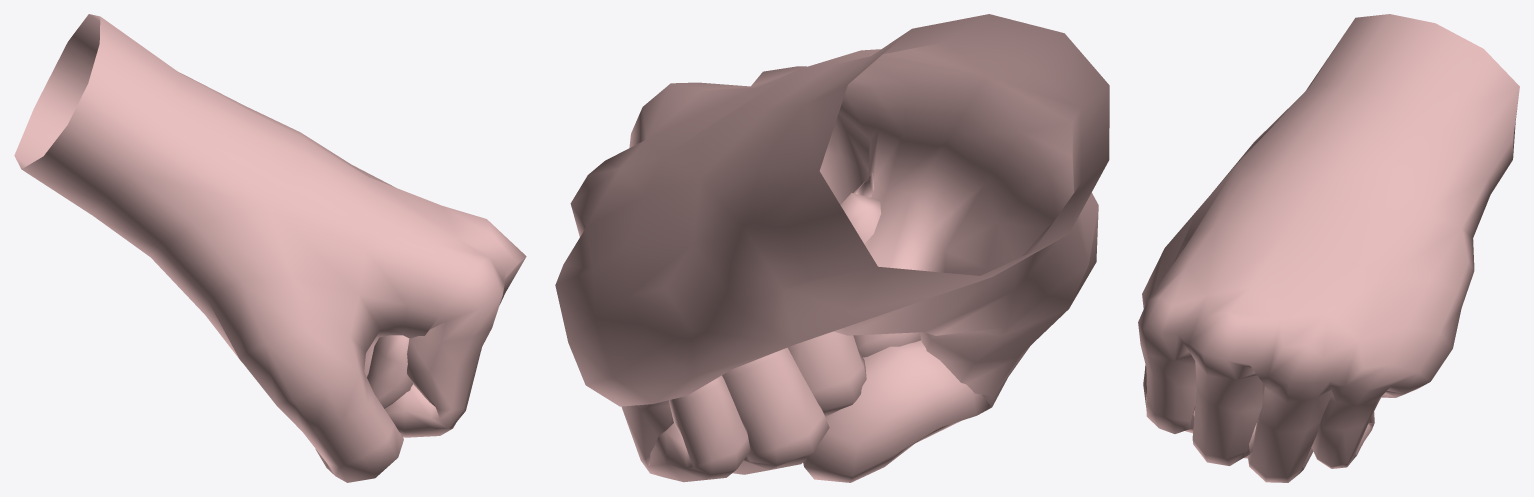
File: Anime_Female_A_Fist02.fbx
3 renders of one model, left to right at view 1: azimuth 30°, elevation 25°; view 2: azimuth 150°, elevation 25°; view 3: azimuth 270°, elevation 25°, orthographic. The views are drawn at different scales.
Parts seen in each view (by area): view 1: Anime_Female_A_Fist02; view 2: Anime_Female_A_Fist02; view 3: Anime_Female_A_Fist02.
Part boxes in pixels (x1,y1,x2,y2): Anime_Female_A_Fist02: (14, 14, 526, 482); Anime_Female_A_Fist02: (555, 14, 1109, 482); Anime_Female_A_Fist02: (1138, 14, 1519, 482).
Bounding box in the file's own units: 0.5893 × 0.5804 × 0.5469.
